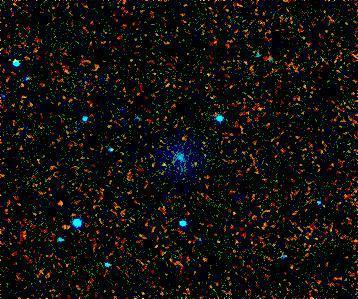star: (47, 213, 77, 243)
